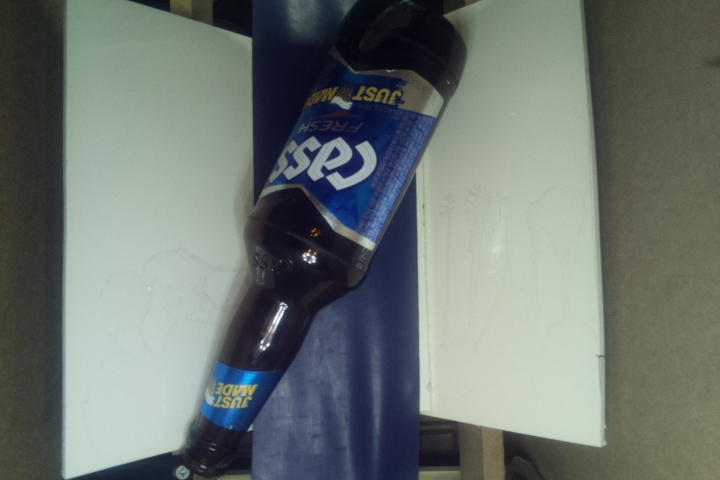makju: (180, 1, 474, 477)
